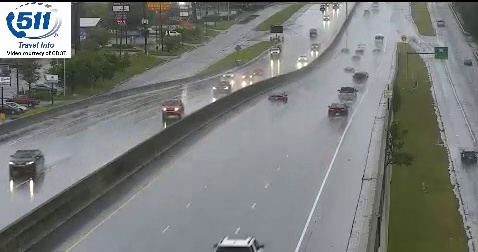car: (328, 103, 347, 118), (268, 92, 287, 104), (339, 88, 357, 100)
